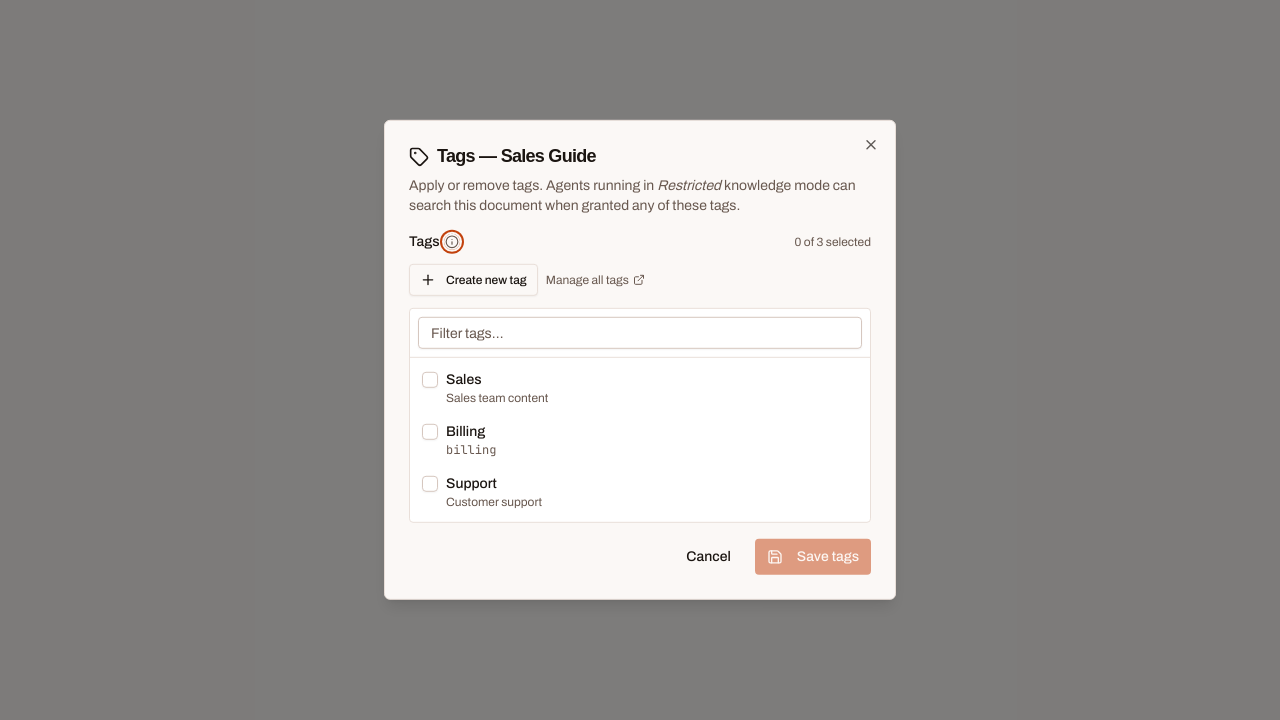
Test: DocumentTagsModal › filter › narrows the tag list by name
This screenshot has width=1280, height=720.
expect the text "Sales" is shown: met, box [446,372,482,387]
Type "bill" into the field labelled "Filter tags…" at (640, 333), box [418,317,862,349]
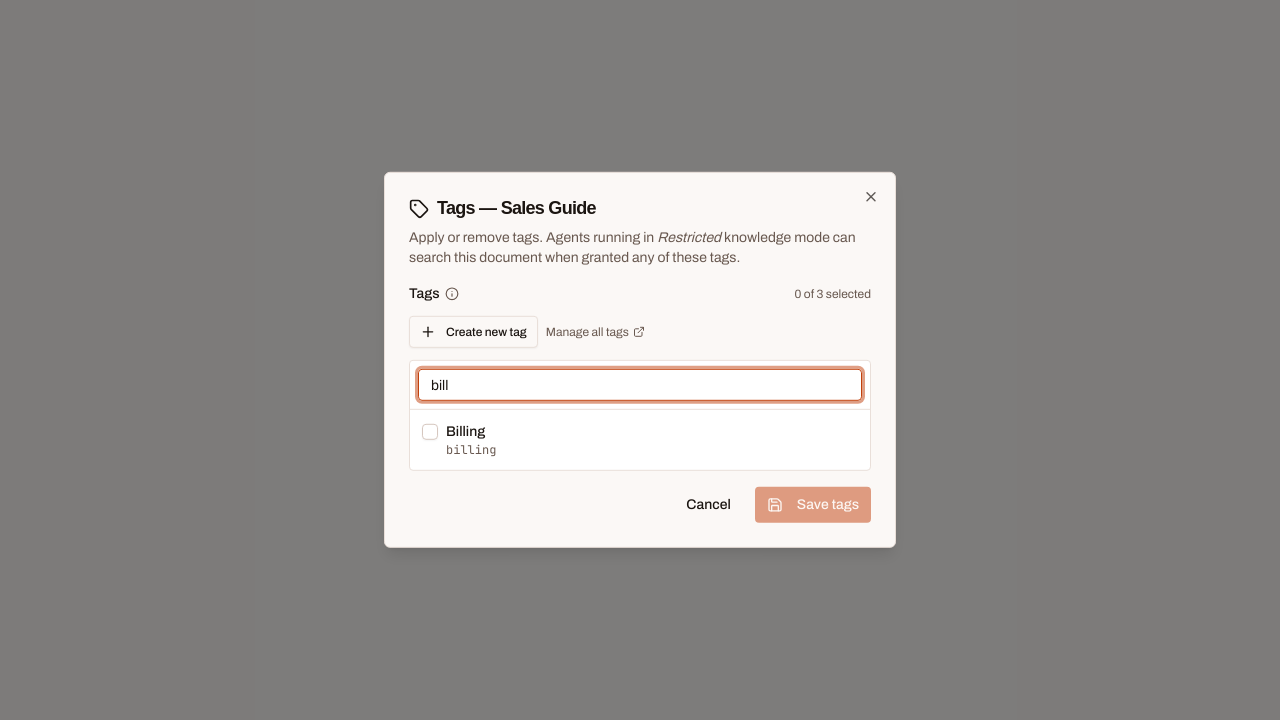
expect the text "Billing" is shown: met, box [446,424,485,439]
expect the text "Support" is gone: met
